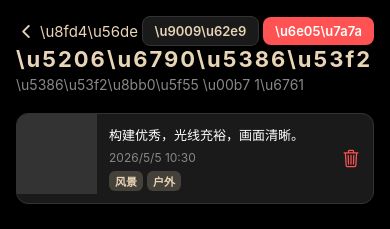
it: AnalysisHistoryScreen › enters select mode when select button is tapped
Click the element with test id "btn-select": [200, 31] box [142, 16, 259, 46]
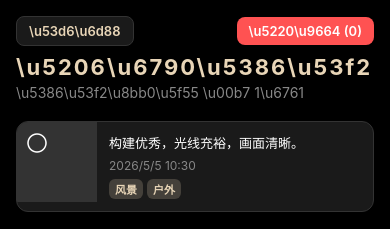
Check: the element with test id "btn-cancel" is shown, box [16, 16, 134, 46]
